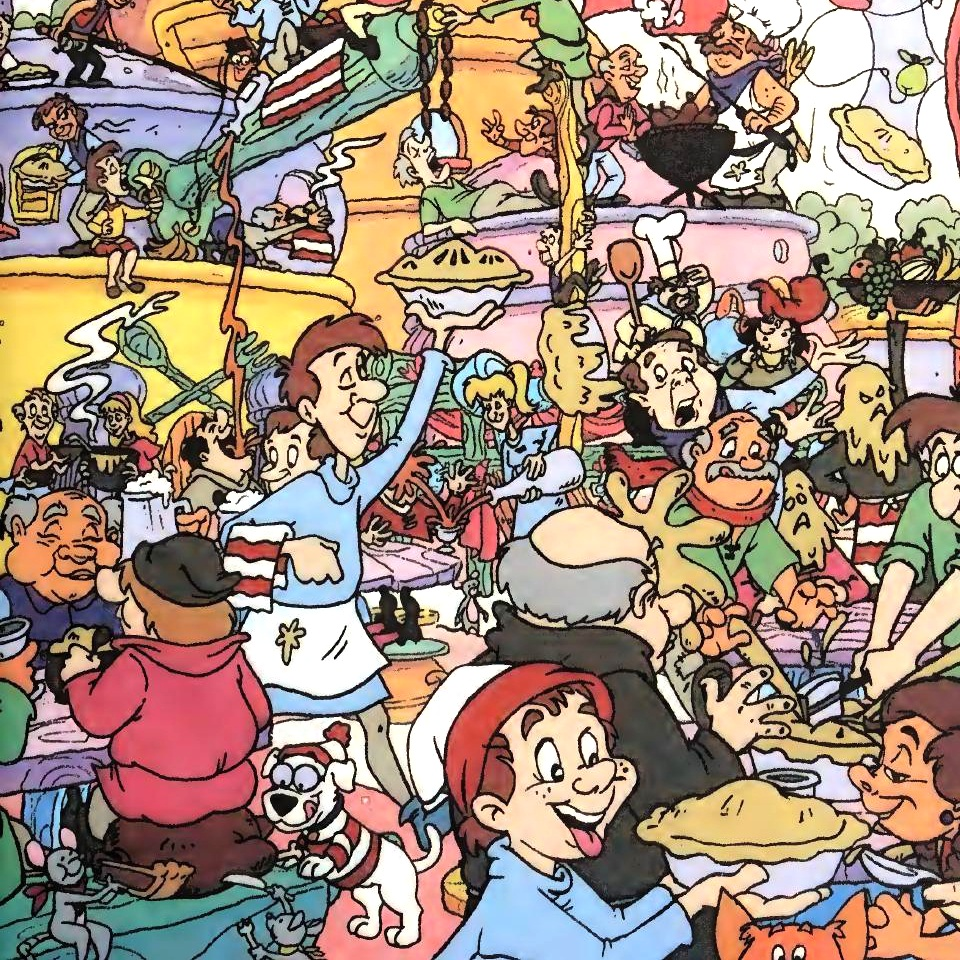waldo: (220, 35, 260, 81)
